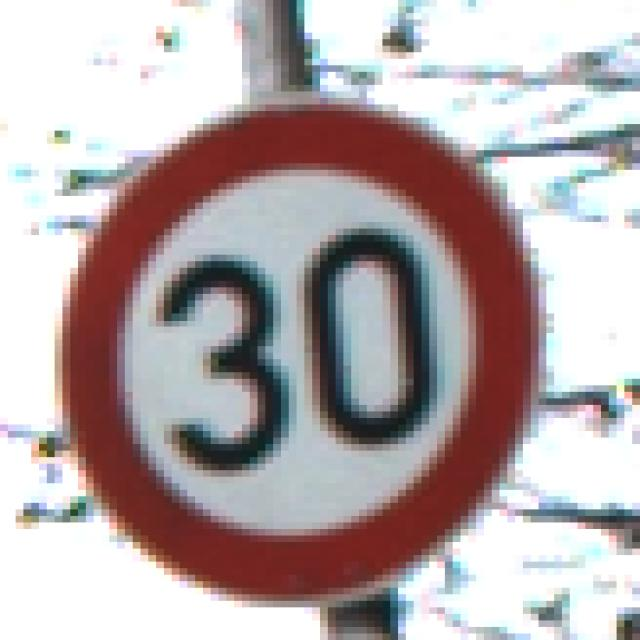Speed Limit -30-: (54, 49, 570, 584)
